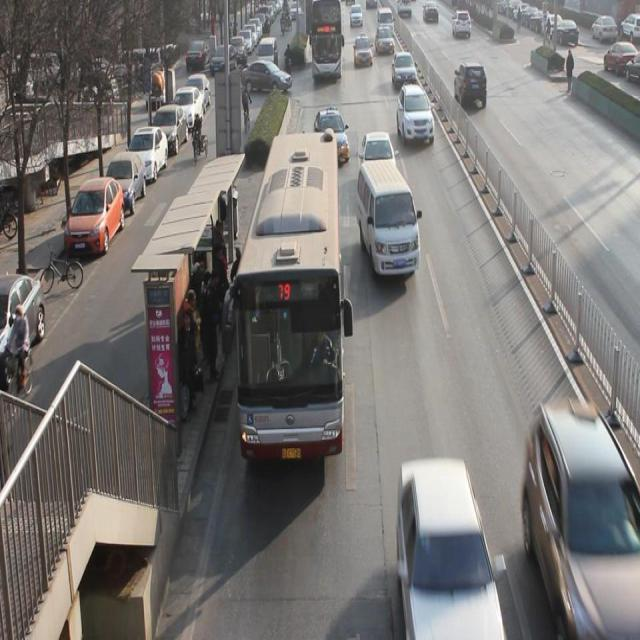car: (526, 406, 640, 628), (402, 462, 503, 628), (397, 89, 434, 144), (315, 108, 350, 166), (448, 65, 489, 112), (360, 133, 394, 183), (392, 54, 418, 86), (375, 27, 396, 61), (353, 40, 373, 69)
truck: (359, 164, 421, 282)
van: (234, 138, 344, 465), (311, 1, 341, 81)
